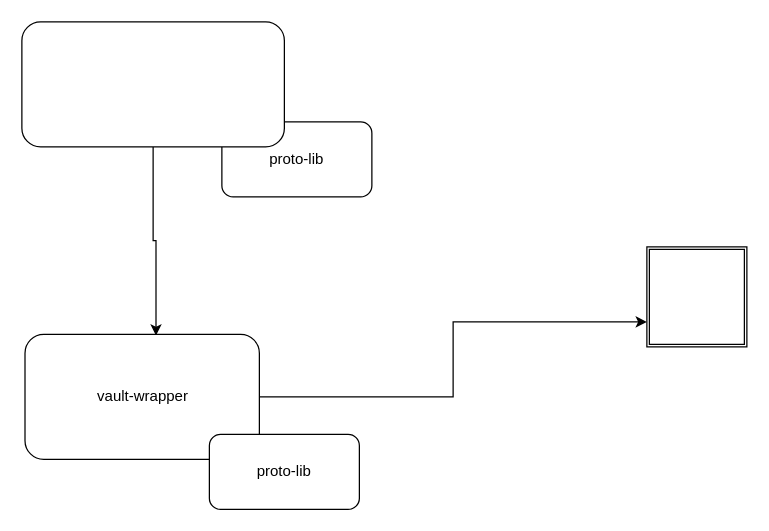
Image size: 769x531. Some labels were removed from this diagram. The shapes that lost their labels are listed below. From the top down, each one's box as (x1, y1, x2, y2) in pixels, then its label:
(21, 21, 284, 147): account-service
(646, 246, 747, 347): vault-core
